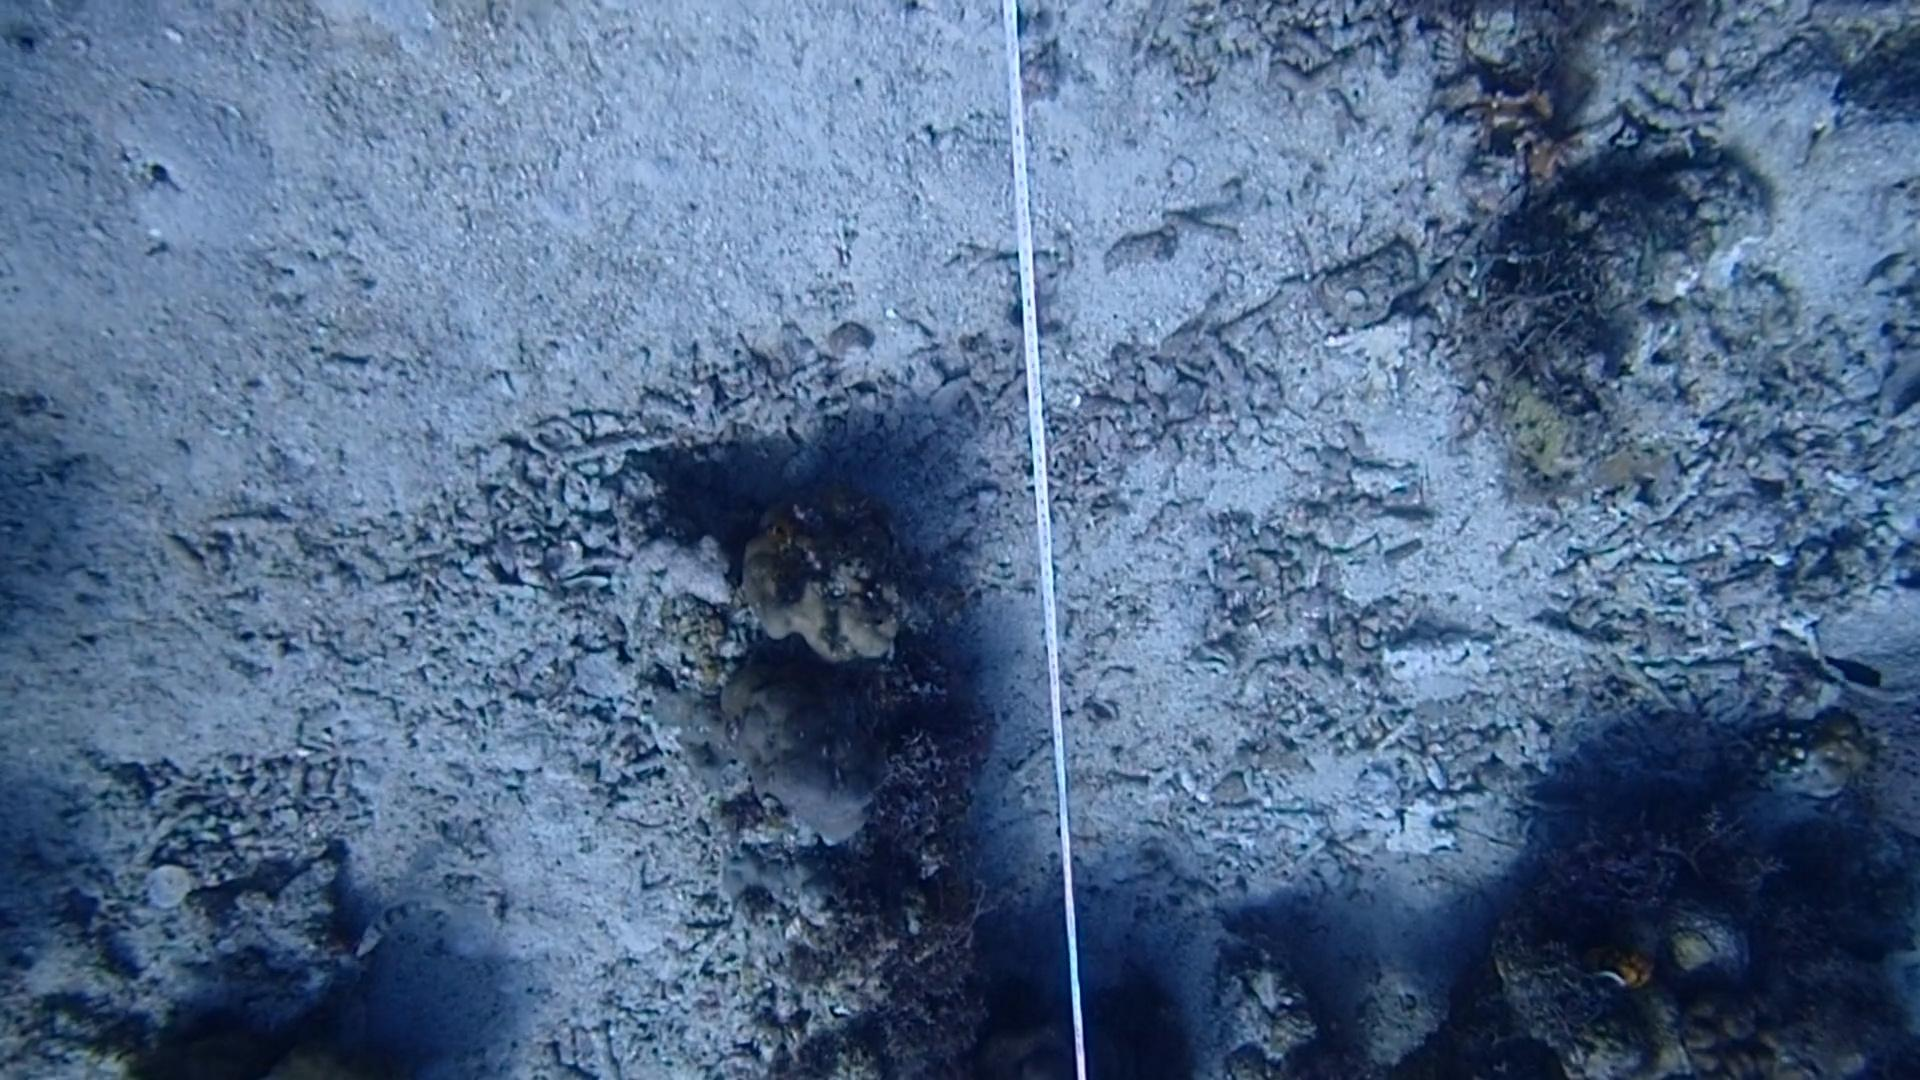Dark Fish: (1811, 644, 1891, 703)
Light Fish w Back Stripes: (339, 884, 459, 972)
